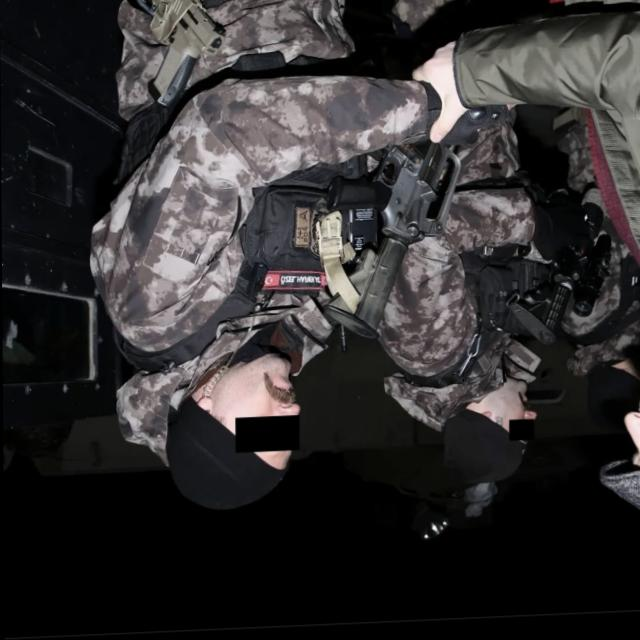poh_personel: (90, 0, 409, 519), (378, 106, 576, 495)
